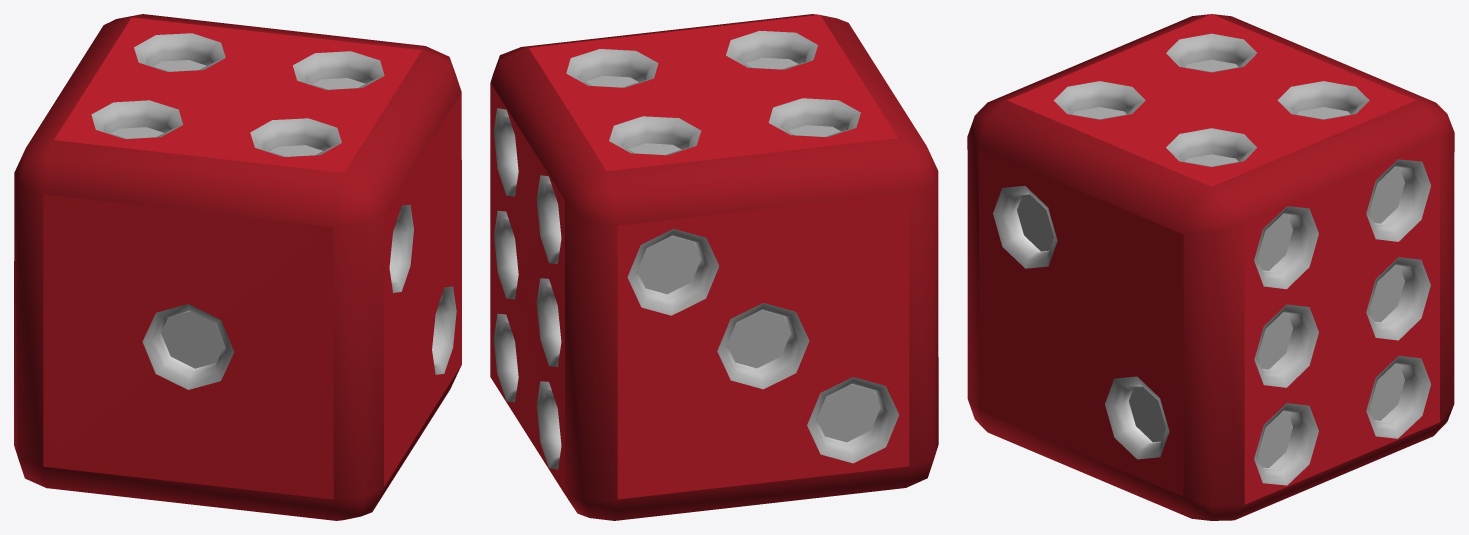
File: Dice_V1_02.fbx
3 views of the same model, side by side, from view 1: azimuth 30°, elevation 25°; view 2: azimuth 150°, elevation 25°; view 3: azimuth 270°, elevation 25° (orthographic). The views are drawn at different scales.
Visible parts, largest first — view 1: Dice_V1_02; view 2: Dice_V1_02; view 3: Dice_V1_02.
Part boxes in pixels (box(x1,y1,x2,y2)): Dice_V1_02: box(14, 14, 461, 520); Dice_V1_02: box(490, 14, 938, 520); Dice_V1_02: box(967, 14, 1454, 520).
Size of the model in its own units: 49.83 by 37.76 by 49.85.
